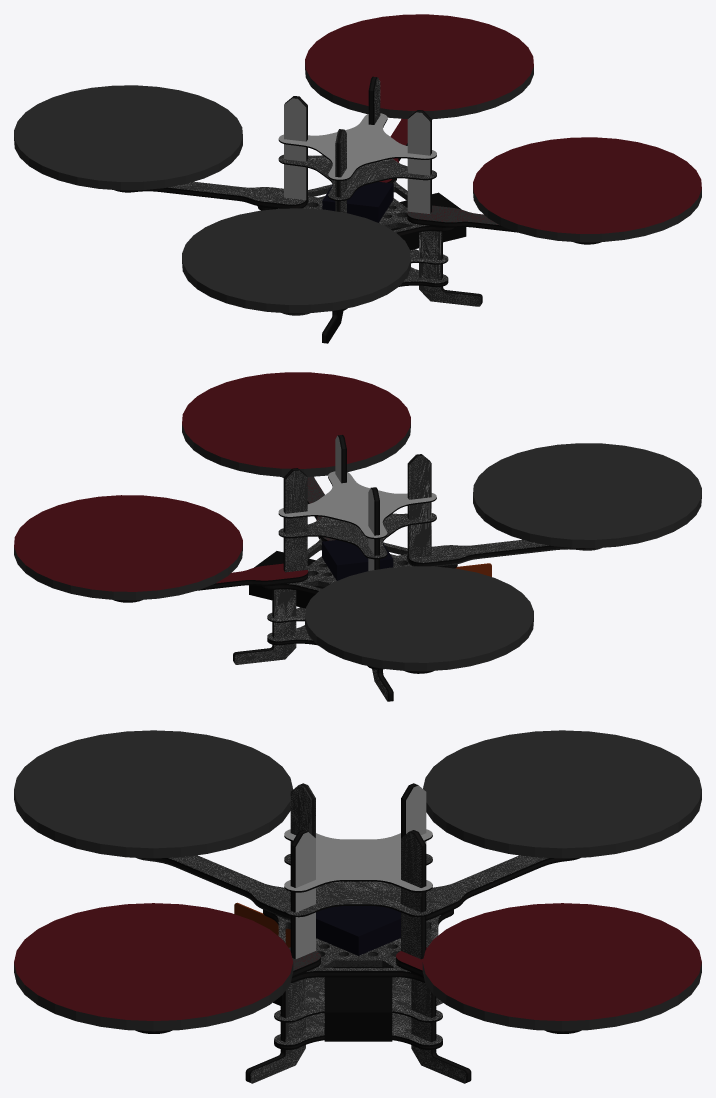
File: uav.dae
3 views of the same model, one above another, from view 1: azimuth 30°, elevation 25°; view 2: azimuth 150°, elevation 25°; view 3: azimuth 270°, elevation 25° (orthographic). The views are drawn at different scales.
Visible parts, largest first — view 1: skp4D2C (×20); view 2: skp4D2C (×20); view 3: skp4D2C (×26).
Boxes of the visible parts, bbox=[...] form: skp4D2C (×20): bbox=[14, 14, 701, 313]; skp4D2C (×20): bbox=[14, 372, 701, 671]; skp4D2C (×26): bbox=[14, 730, 701, 1083].
Bounding box in the file's own units: 19.4 × 19.4 × 7.1.
